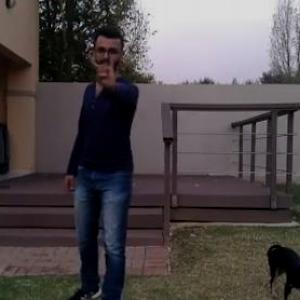takeoff-hand: (87, 50, 122, 90)
